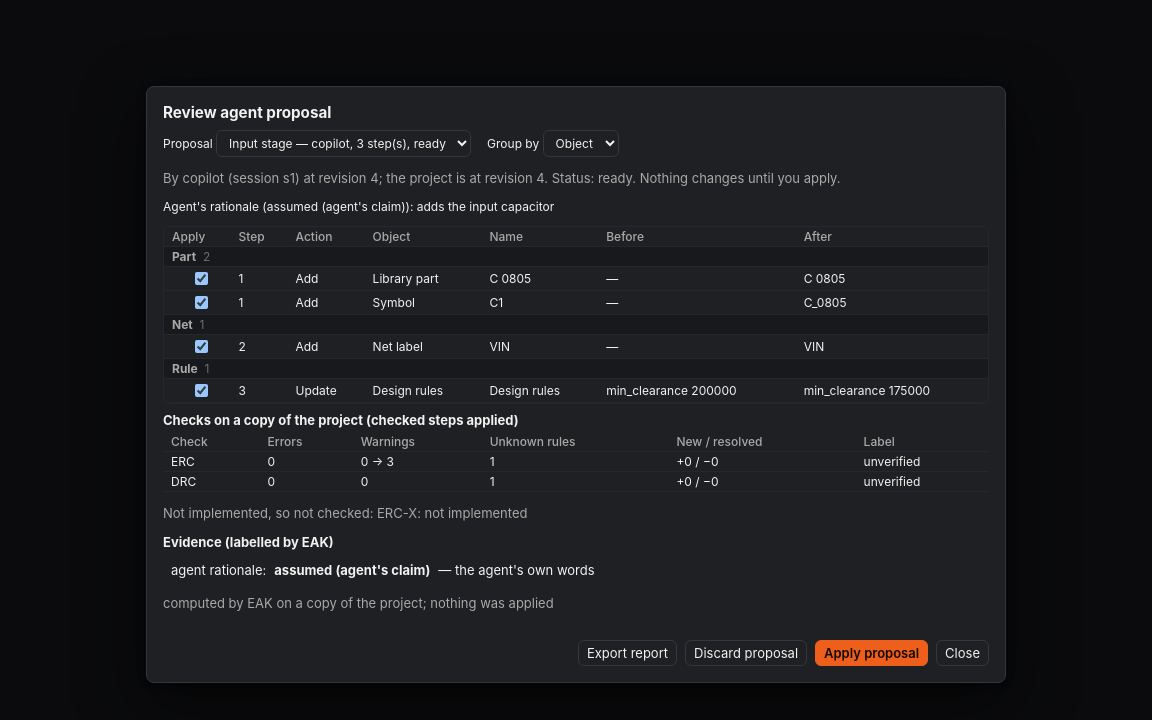
proposal review dialog › Apply is refused while nothing is checked, and Discard asks to confirm
This screenshot has width=1152, height=720.
Click the checkbox named "Apply step 1 Add Symbol C1" at [201, 303], box [176,296,227,309]
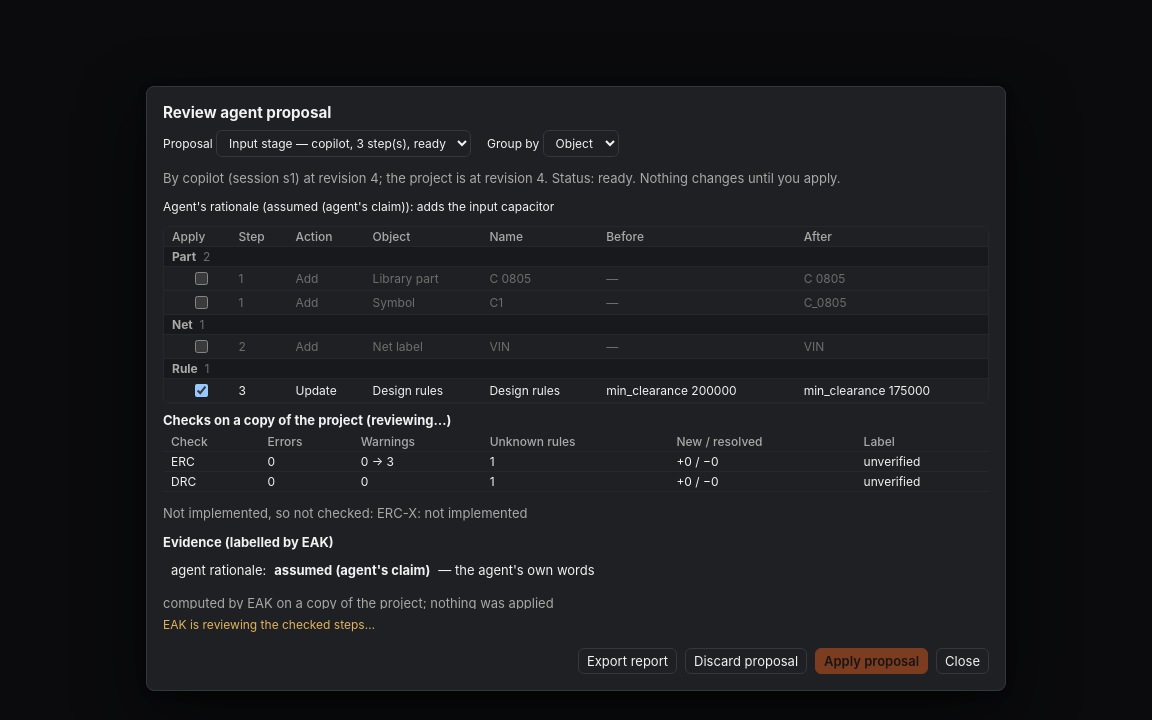
Click the checkbox named "Apply step 3 Update Design rules Design rules" at [201, 391], box [176,384,227,397]
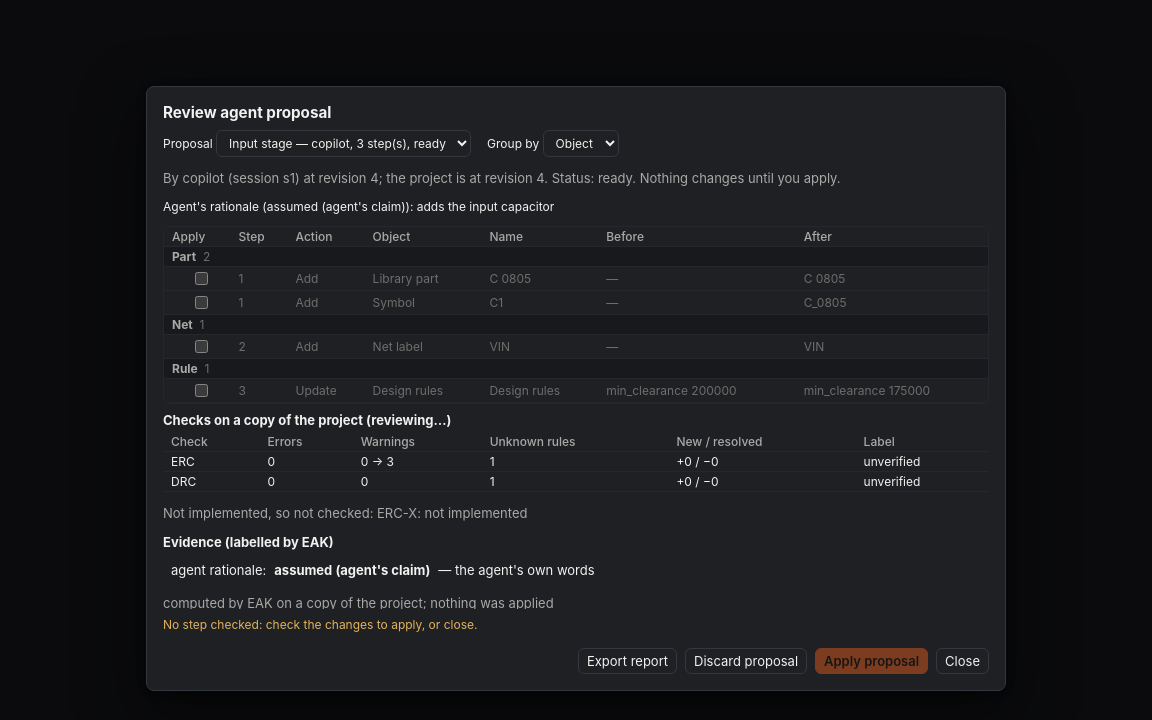
Check: the button "Apply proposal" is disabled, box [815,648,928,674]
Check: the text "No step checked: check the changes to apply, or close." is shown, box [163,617,477,632]
Click the button "Discard proposal" at [746, 661], box [685,648,807,674]
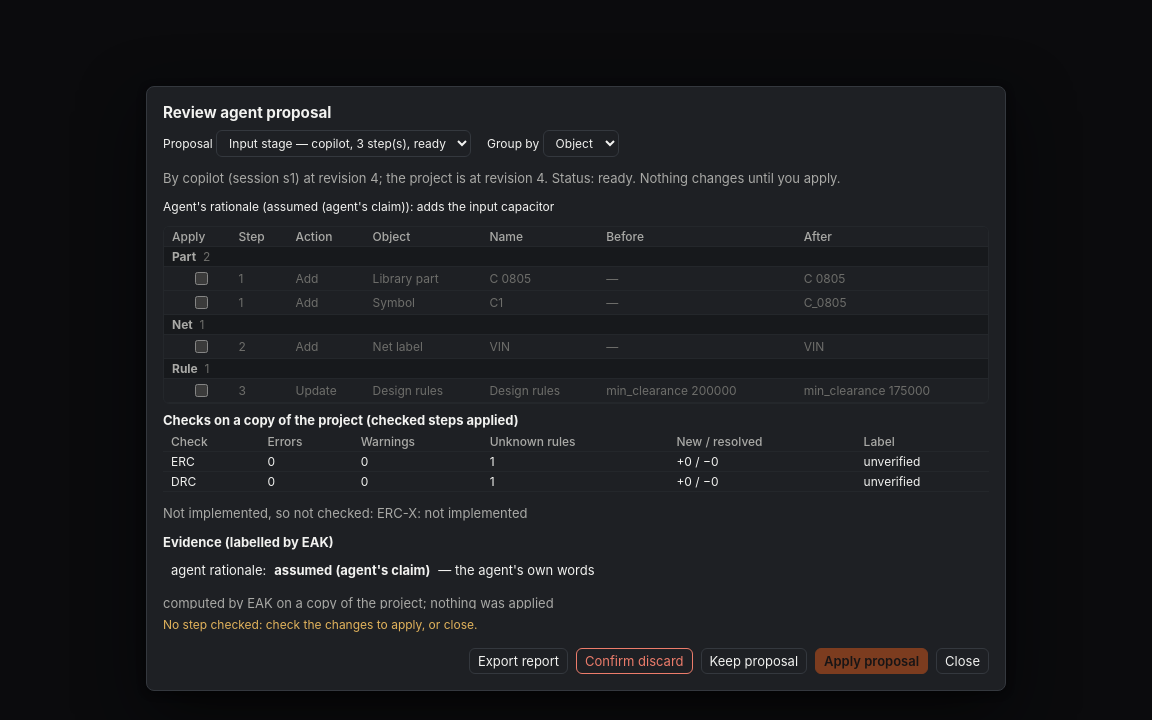
Click the button "Confirm discard" at [634, 661], box [576,648,692,674]
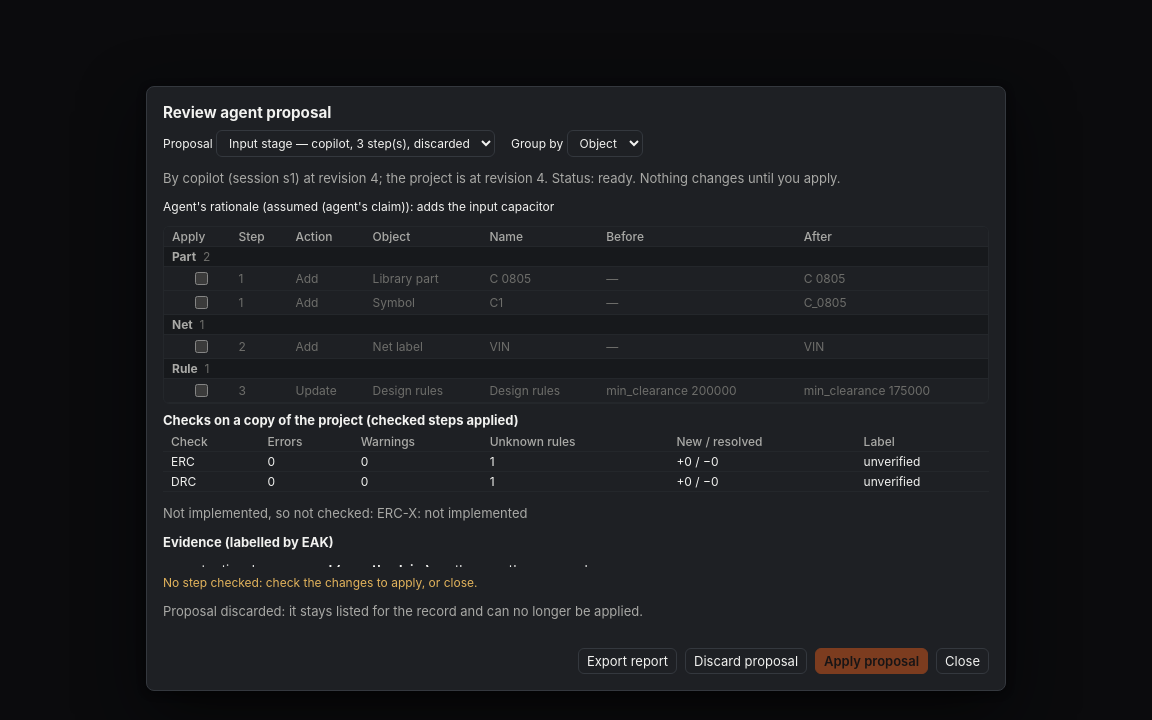
Check: the text "Proposal discarded" is shown, box [163,603,643,619]
